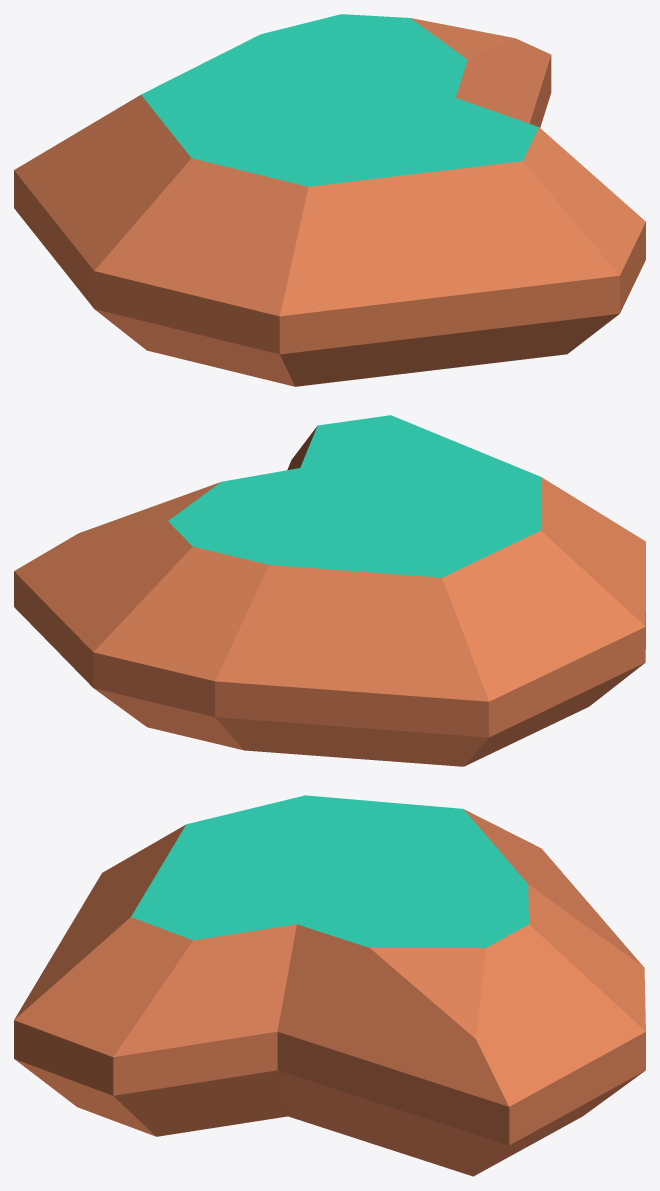
Rendered from rock_largeC.obj.
3 renders of one model, top to bottom at view 1: azimuth 30°, elevation 25°; view 2: azimuth 150°, elevation 25°; view 3: azimuth 270°, elevation 25°, orthographic. The views are drawn at different scales.
Parts seen in each view (by area): view 1: rock_largeC; view 2: rock_largeC; view 3: rock_largeC.
Boxes of the visible parts, box(x1,y1,x2,y2) form: rock_largeC: box(14, 14, 645, 386); rock_largeC: box(14, 415, 645, 766); rock_largeC: box(14, 795, 645, 1176).
Bounding box in the file's own units: 1.06 × 0.3211 × 1.02.
